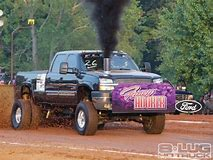smoke: (82, 1, 133, 56)
